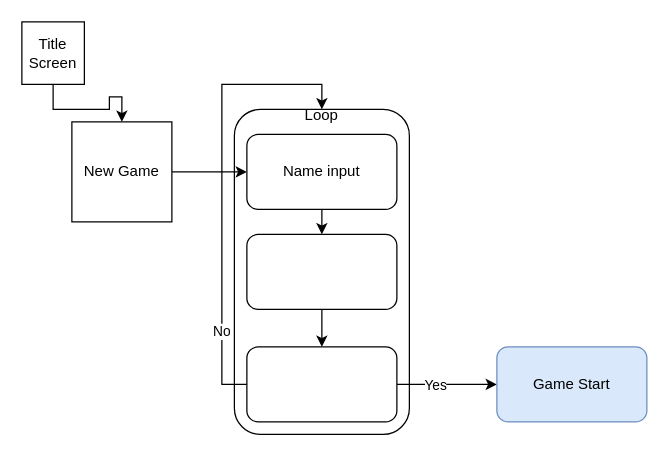
Image size: 669x456. Some labels were removed from this diagram. Each missing label, with the centre of its shape:
Are you sure?: [321,384]
Choose Text Speed: [321,271]
